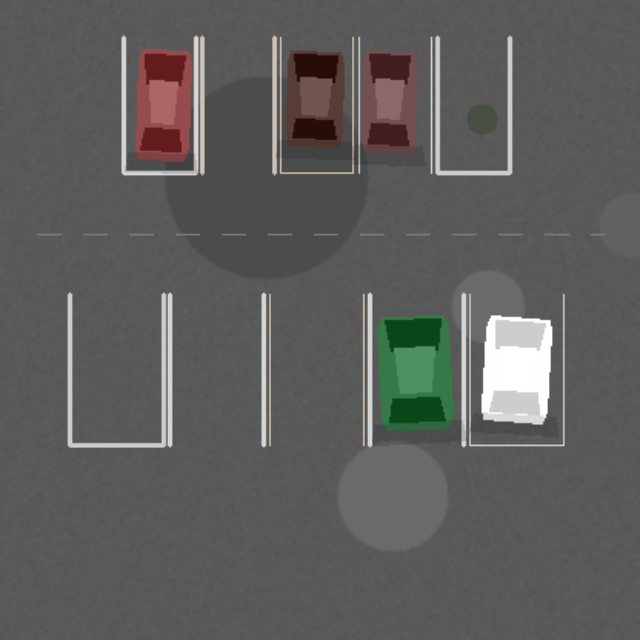space-empty: (69, 294, 163, 445), (169, 294, 263, 445), (269, 294, 363, 445), (202, 37, 274, 172), (437, 37, 509, 172)
space-occupied: (369, 294, 463, 445), (469, 294, 563, 445), (358, 37, 431, 172), (123, 37, 195, 172), (280, 37, 352, 172)
